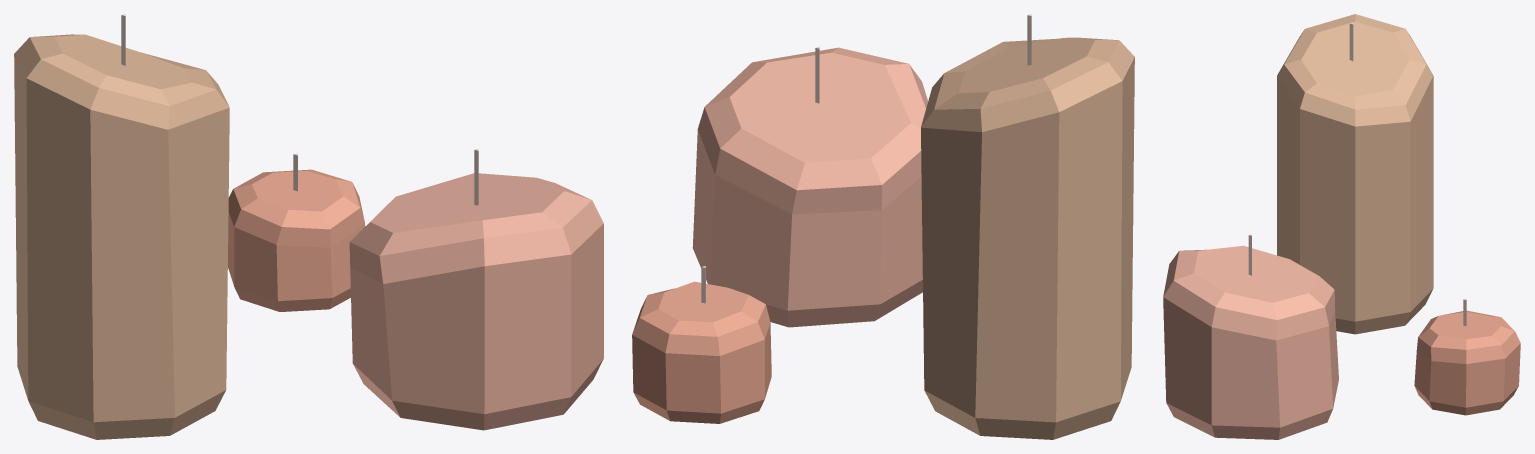
The model's file is Candles.fbx.
The picture shows the model from 3 angles, left to right: view 1: azimuth 30°, elevation 25°; view 2: azimuth 150°, elevation 25°; view 3: azimuth 270°, elevation 25°; orthographic projection. The views are drawn at different scales.
Parts seen in each view (by area): view 1: Candles; view 2: Candles; view 3: Candles.
Boxes of the visible parts, x1,y1,x2,y2 form: Candles: (14,14,603,439); Candles: (632,14,1134,439); Candles: (1163,14,1520,439).
Bounding box in the file's own units: 0.2084 × 0.1627 × 0.1833.
Materials: 1 (1 with a texture image).
